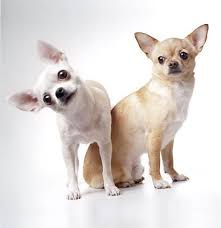chihuahua: (9, 40, 121, 200), (110, 23, 209, 187)
